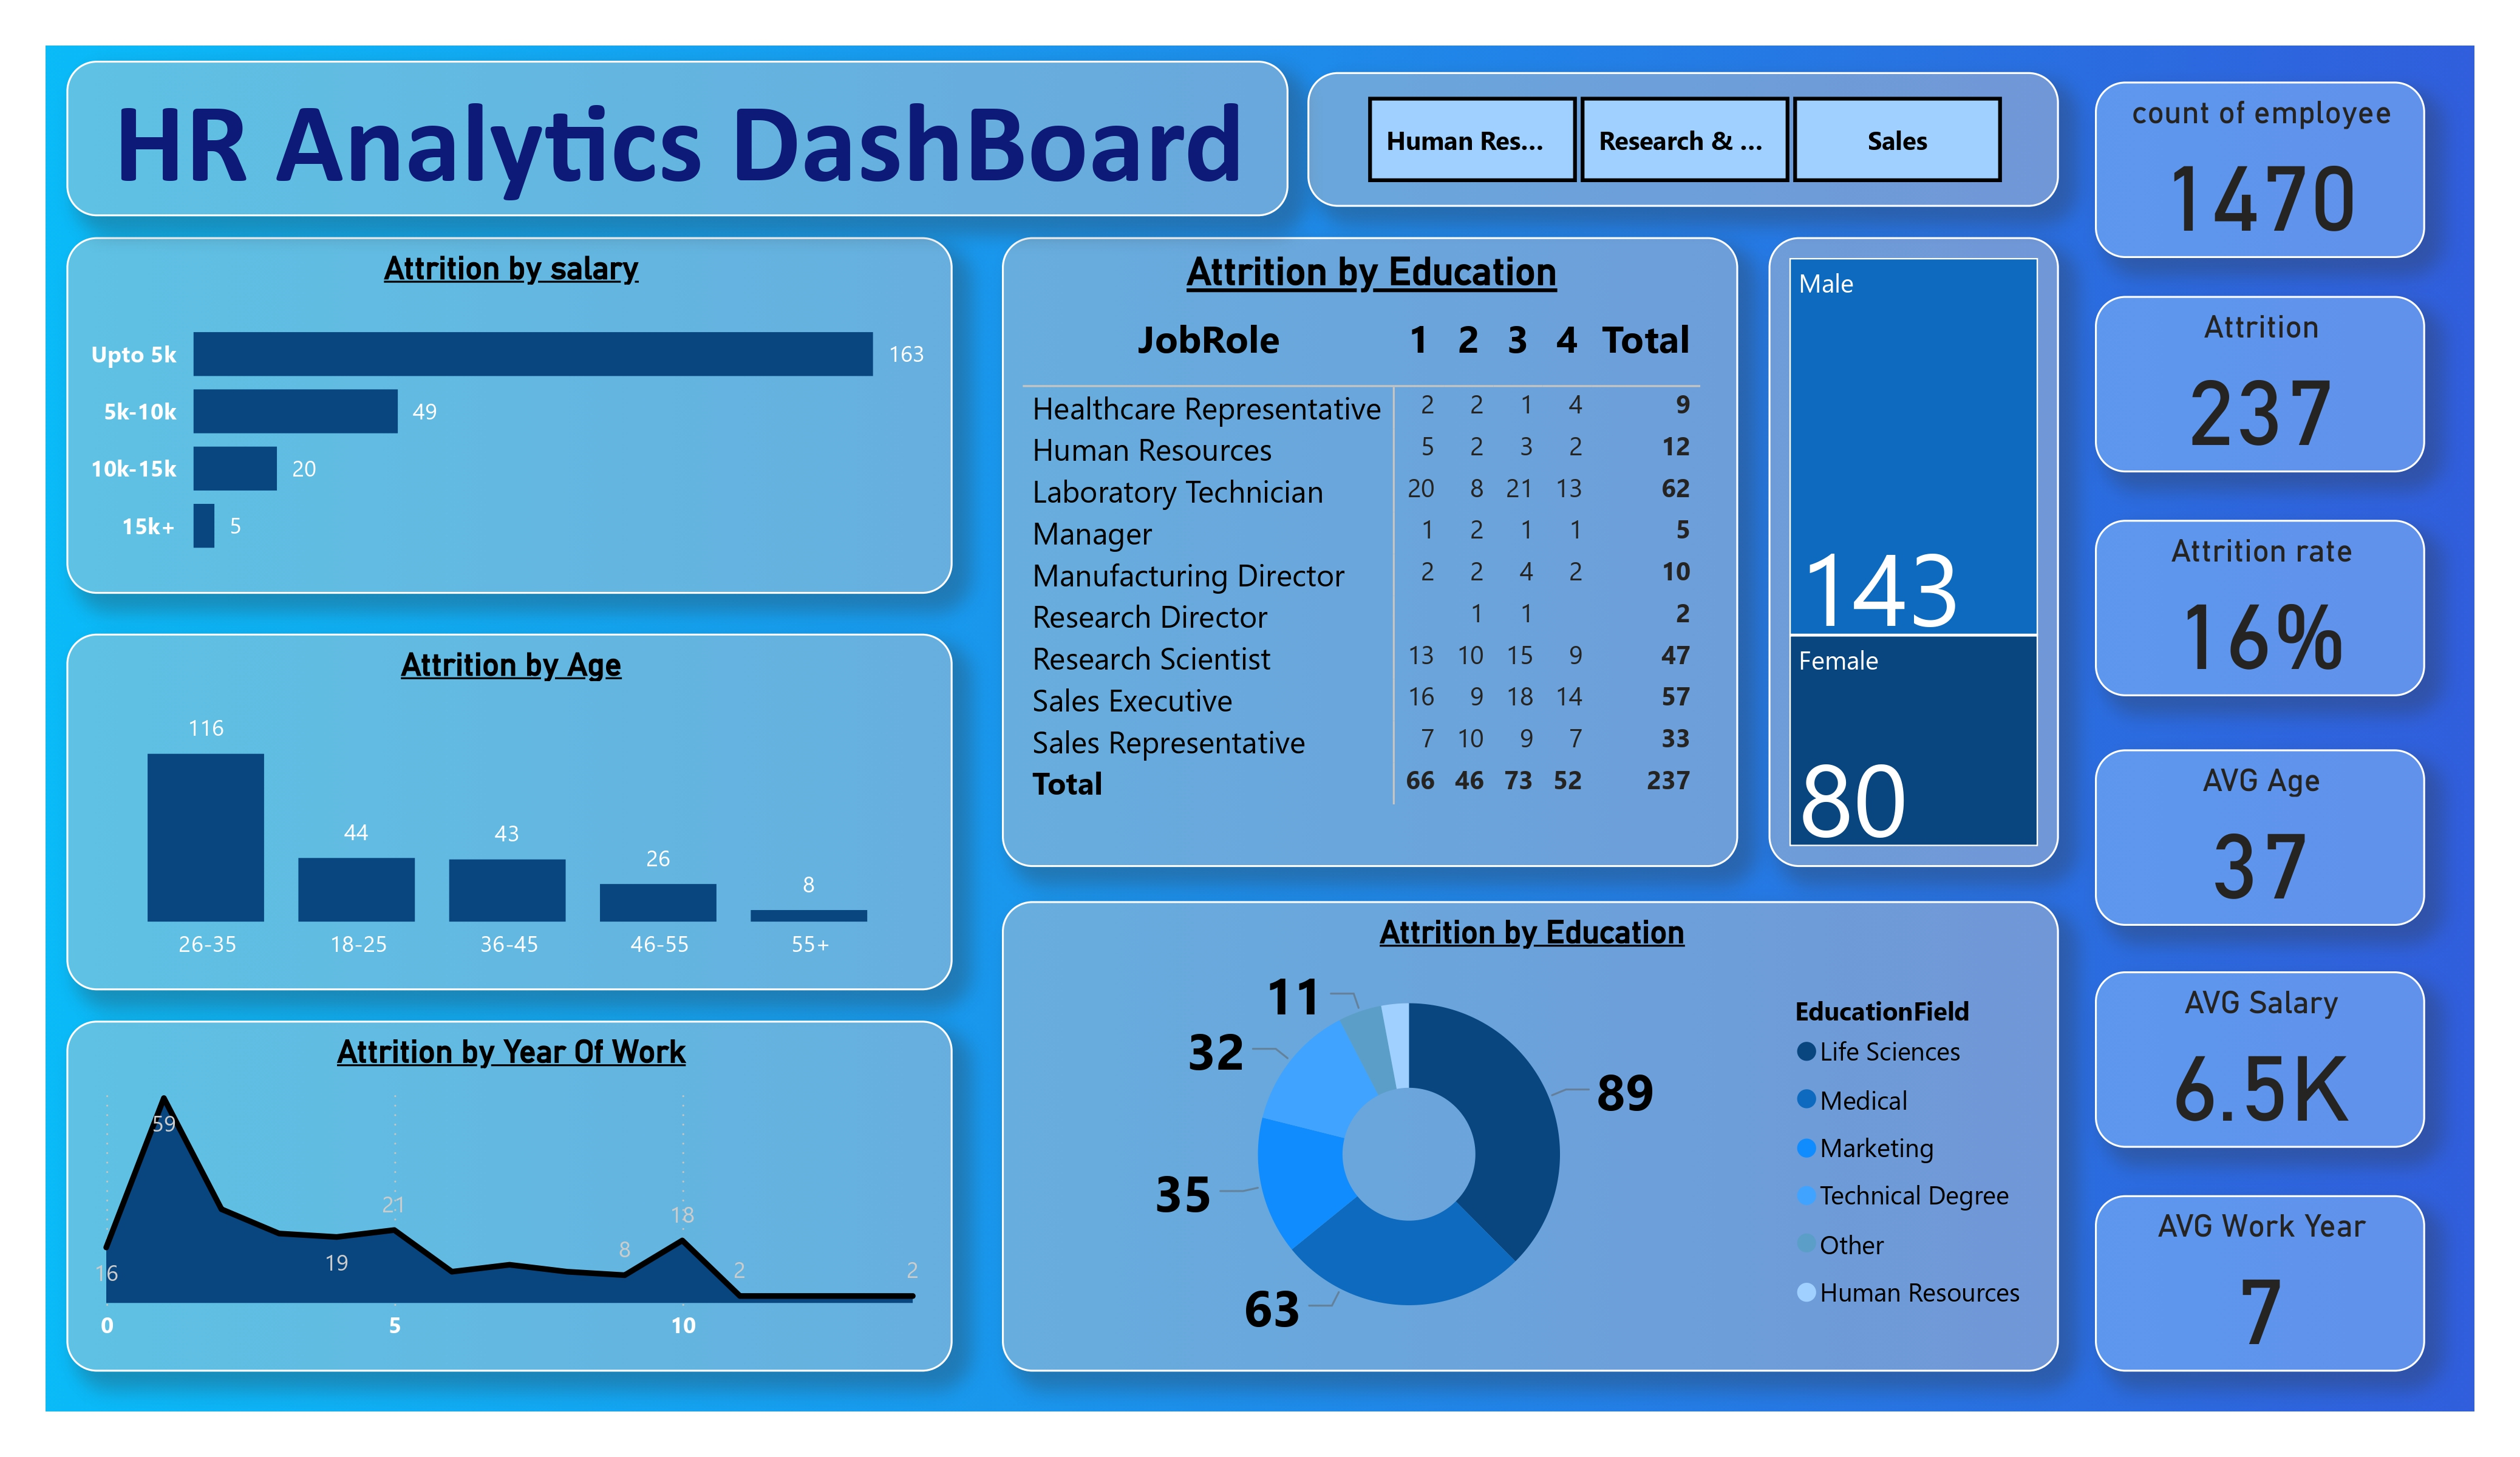

What the dashboard file says about the page in this screenshot:
{"tool":"powerbi","page":{"name":"Page 1","canvas":[1280,720],"ordinal":0},"visuals":[{"type":"card","title":"count of employee","fields":{"Values":["CountNonNull(HR_Analytics.EmpID)"]},"box":[1079.8,19.1,174.2,93.1],"z":0},{"type":"card","title":"Attrition","fields":{"Values":["CountNonNull(HR_Analytics.attrition_count)"]},"box":[1080,132.3,174,93],"z":1000},{"type":"card","title":"Attrition rate","fields":{"Values":["HR_Analytics.attrition_rate"]},"box":[1080,250.3,174,93],"z":2000},{"type":"card","title":"AVG Age","fields":{"Values":["Avg(HR_Analytics.Age)"]},"box":[1080,370.7,174,93],"z":3000},{"type":"card","title":"AVG Work Year","fields":{"Values":["Avg(HR_Analytics.YearsAtCompany)"]},"box":[1080,605.6,174,93],"z":4000},{"type":"card","title":"AVG Salary","fields":{"Values":["Avg(HR_Analytics.MonthlyIncome)"]},"box":[1080,487.5,174,93],"z":5000},{"type":"donutChart","title":"Attrition by Education","fields":{"Category":["HR_Analytics.EducationField"],"Y":["Sum(HR_Analytics.attrition_count)"]},"box":[503.5,451,557.2,248.2],"z":6000},{"type":"columnChart","title":"Attrition by Age","fields":{"Category":["HR_Analytics.AgeGroup"],"Y":["Sum(HR_Analytics.attrition_count)"]},"box":[10.7,310.2,467.7,187.3],"z":7000},{"type":"pivotTable","title":"Attrition by Education","fields":{"Rows":["HR_Analytics.JobRole"],"Values":["Sum(HR_Analytics.attrition_count)"],"Columns":["HR_Analytics.JobSatisfaction"]},"box":[503.5,101.4,389,331.7],"z":8000},{"type":"barChart","title":"Attrition by salary","fields":{"Category":["HR_Analytics.SalarySlab"],"Y":["Sum(HR_Analytics.attrition_count)"]},"box":[10.7,101.4,467.7,187.3],"z":9000},{"type":"areaChart","title":"Attrition by Year Of Work","fields":{"Category":["HR_Analytics.YearsAtCompany"],"Y":["Sum(HR_Analytics.attrition_count)"]},"box":[10.7,514.2,467.7,184.9],"z":10000},{"type":"treemap","title":"Attrition by Year Of Work","fields":{"Group":["HR_Analytics.Gender"],"Values":["Sum(HR_Analytics.attrition_count)"]},"box":[908,101.4,152.7,331.7],"z":11000},{"type":"textbox","title":"HR Analytics DashBoard","box":[10.7,8.3,644.1,82.1],"z":12000},{"type":"slicer","fields":{"Values":["HR_Analytics.Department"]},"box":[665.5,14.3,395.2,70.2],"z":13000}]}

Visuals, with their boxes in screenshot pixels (x1, y1, x2, y2):
"count of employee" card: region(2123, 83, 2461, 263)
"Attrition" card: region(2123, 303, 2461, 483)
"Attrition rate" card: region(2123, 532, 2461, 712)
"AVG Age" card: region(2123, 766, 2461, 946)
"AVG Work Year" card: region(2123, 1221, 2461, 1402)
"AVG Salary" card: region(2123, 992, 2461, 1173)
"Attrition by Education" donutChart: region(1004, 922, 2086, 1403)
"Attrition by Age" columnChart: region(47, 648, 955, 1011)
"Attrition by Education" pivotTable: region(1004, 243, 1759, 886)
"Attrition by salary" barChart: region(47, 243, 955, 606)
"Attrition by Year Of Work" areaChart: region(47, 1044, 955, 1403)
"Attrition by Year Of Work" treemap: region(1789, 243, 2086, 886)
"HR Analytics DashBoard" textbox: region(47, 62, 1298, 222)
slicer - HR_Analytics.Department: region(1318, 73, 2086, 210)
